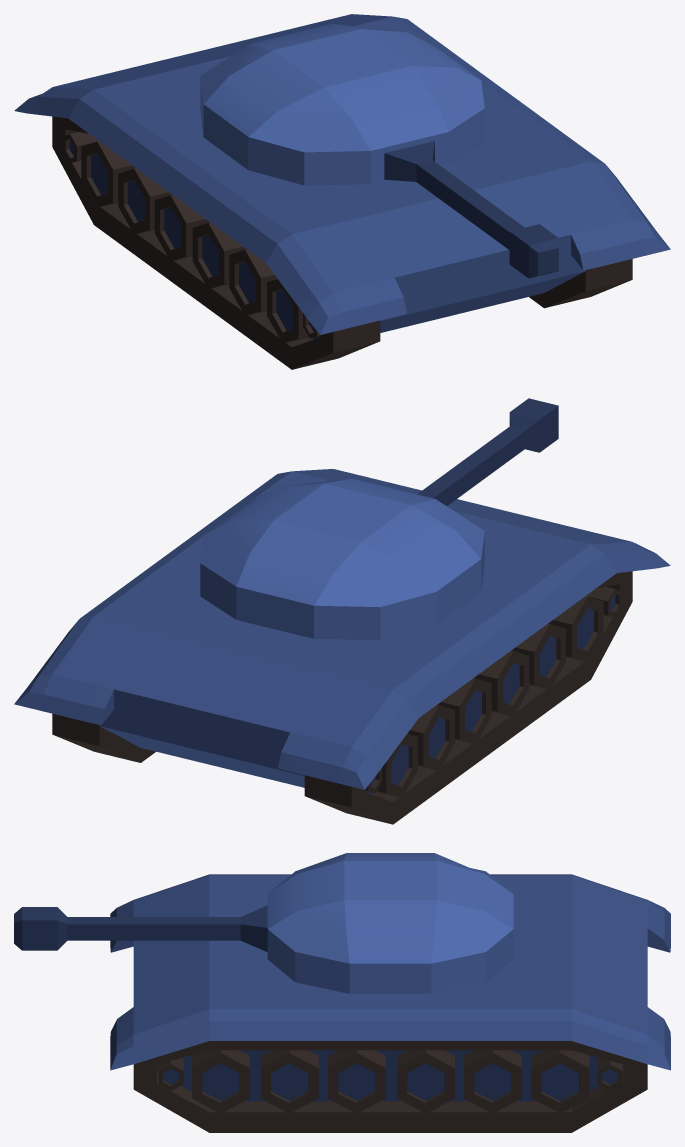
The model's file is tiny_tank_blue2.fbx.
3 views of the same model, one above another, from view 1: azimuth 30°, elevation 25°; view 2: azimuth 150°, elevation 25°; view 3: azimuth 270°, elevation 25° (orthographic). The views are drawn at different scales.
Visible parts, largest first — view 1: Tank_Base, Tank_Top, Tank_Wheel_Big3, Tank_Wheel_Back_Big, Tank_Wheel_Big2, Tank_Wheel_Big4, Tank_Wheel_Big1, Tank_Wheel_Front_Big, Tank_Wheel_Back; view 2: Tank_Base, Tank_Top, Tank_Wheel_Big2, Tank_Wheel_Front_Big, Tank_Wheel_Big1, Tank_Wheel_Big3, Tank_Wheel_Big4, Tank_Wheel_Back_Big, Tank_Wheel_Front; view 3: Tank_Base, Tank_Top, Tank_Wheel_Big1, Tank_Wheel_Back_Big, Tank_Wheel_Big2, Tank_Wheel_Big3, Tank_Wheel_Big4, Tank_Wheel_Front_Big, Tank_Wheel_Back, Tank_Wheel_Front.
Part boxes in pixels (bbox=[...]): Tank_Base: bbox=[14, 14, 670, 369]; Tank_Top: bbox=[200, 24, 558, 278]; Tank_Wheel_Big3: bbox=[154, 195, 209, 261]; Tank_Wheel_Back_Big: bbox=[81, 141, 135, 207]; Tank_Wheel_Big2: bbox=[192, 222, 246, 289]; Tank_Wheel_Big4: bbox=[118, 168, 172, 234]; Tank_Wheel_Big1: bbox=[229, 249, 277, 315]; Tank_Wheel_Front_Big: bbox=[267, 279, 308, 343]; Tank_Wheel_Back: bbox=[63, 132, 98, 163]; Tank_Base: bbox=[14, 469, 670, 824]; Tank_Top: bbox=[200, 398, 558, 640]; Tank_Wheel_Big2: bbox=[474, 650, 529, 716]; Tank_Wheel_Front_Big: bbox=[548, 596, 603, 662]; Tank_Wheel_Big1: bbox=[512, 623, 565, 689]; Tank_Wheel_Big3: bbox=[437, 678, 491, 744]; Tank_Wheel_Big4: bbox=[407, 704, 454, 771]; Tank_Wheel_Back_Big: bbox=[376, 734, 417, 798]; Tank_Wheel_Front: bbox=[586, 587, 621, 617]; Tank_Base: bbox=[110, 874, 670, 1132]; Tank_Top: bbox=[14, 853, 513, 993]; Tank_Wheel_Big1: bbox=[260, 1050, 318, 1113]; Tank_Wheel_Back_Big: bbox=[531, 1050, 589, 1113]; Tank_Wheel_Big2: bbox=[328, 1050, 385, 1113]; Tank_Wheel_Big3: bbox=[397, 1050, 454, 1113]; Tank_Wheel_Big4: bbox=[464, 1050, 521, 1113]; Tank_Wheel_Front_Big: bbox=[192, 1050, 249, 1113]; Tank_Wheel_Back: bbox=[597, 1058, 622, 1090]; Tank_Wheel_Front: bbox=[158, 1058, 183, 1090].
Size of the model in its own units: 1.23 by 0.6817 by 2.19.
